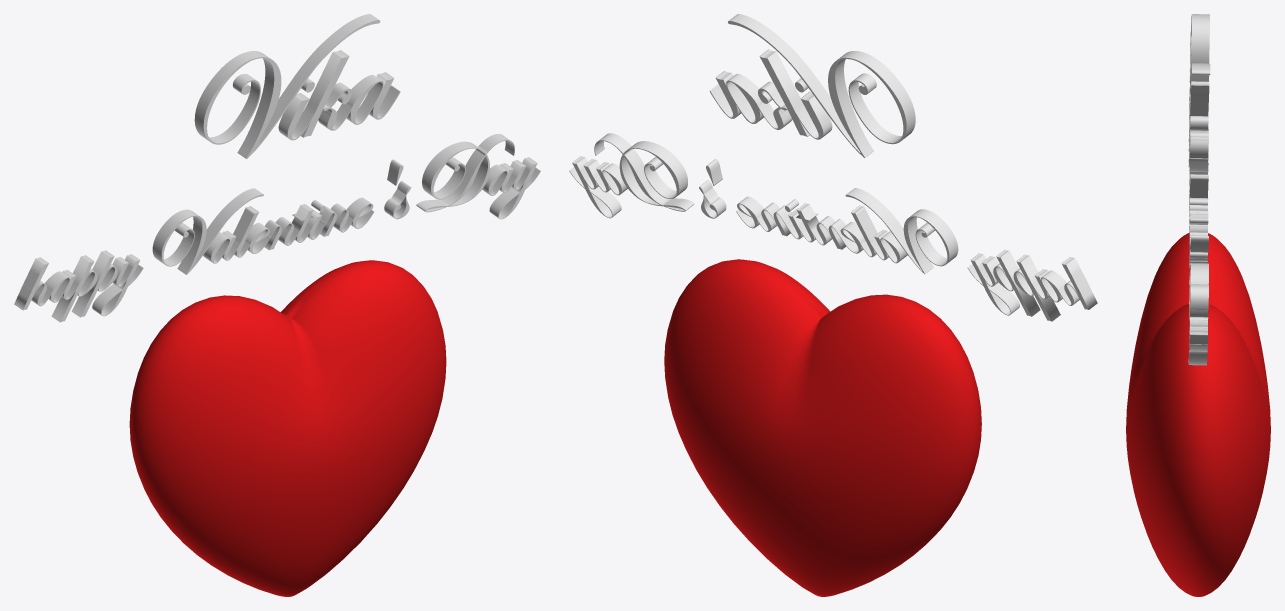
The model's file is heart.gltf.
The picture shows the model from 3 angles, left to right: view 1: azimuth 30°, elevation 25°; view 2: azimuth 150°, elevation 25°; view 3: azimuth 270°, elevation 25°; orthographic projection. The views are drawn at different scales.
Parts seen in each view (by area): view 1: heart, text2, text1; view 2: heart, text2, text1; view 3: heart, text2, text1.
Boxes of the visible parts, bbox=[...] form: heart: bbox=[129, 260, 446, 596]; text2: bbox=[14, 134, 540, 322]; text1: bbox=[194, 14, 400, 158]; heart: bbox=[664, 259, 981, 596]; text2: bbox=[569, 133, 1097, 321]; text1: bbox=[709, 14, 915, 157]; heart: bbox=[1126, 233, 1270, 596]; text2: bbox=[1188, 82, 1208, 365]; text1: bbox=[1189, 14, 1210, 172].
Size of the model in its own units: 3.36 by 3.44 by 0.797.
